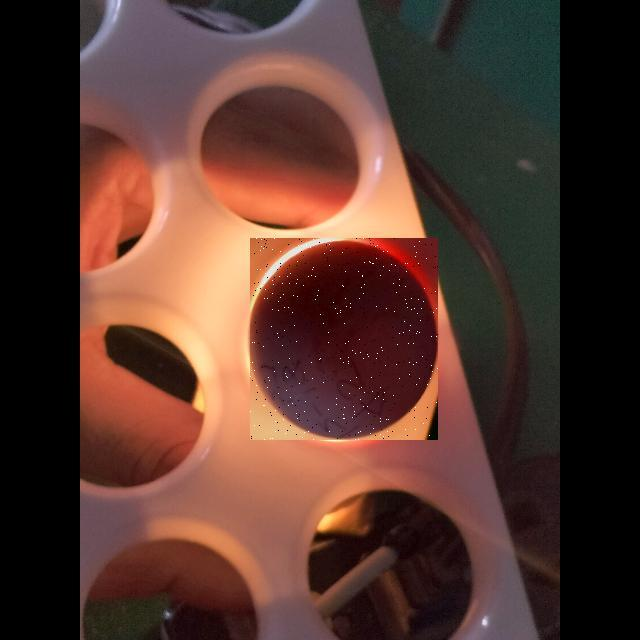Fertile: (250, 238, 438, 440)
